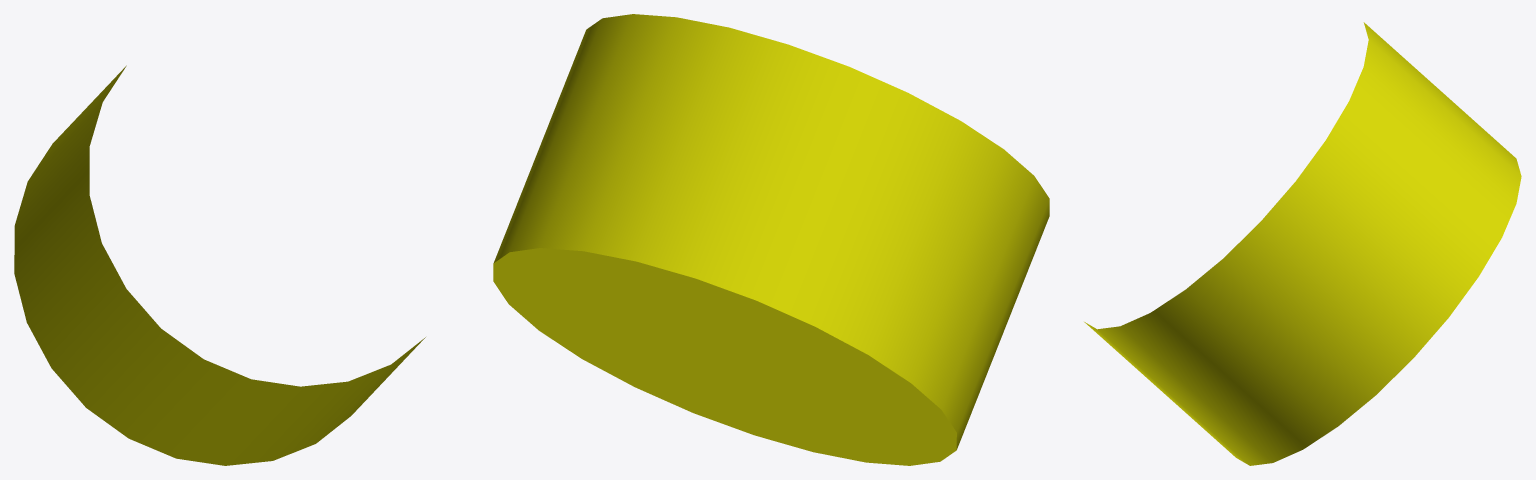
The model's file is Cap1_9.glb.
The picture shows the model from 3 angles, left to right: view 1: azimuth 30°, elevation 25°; view 2: azimuth 150°, elevation 25°; view 3: azimuth 270°, elevation 25°; orthographic projection. The views are drawn at different scales.
Bounding box in the file's own units: 12.36 × 13.25 × 13.31.
